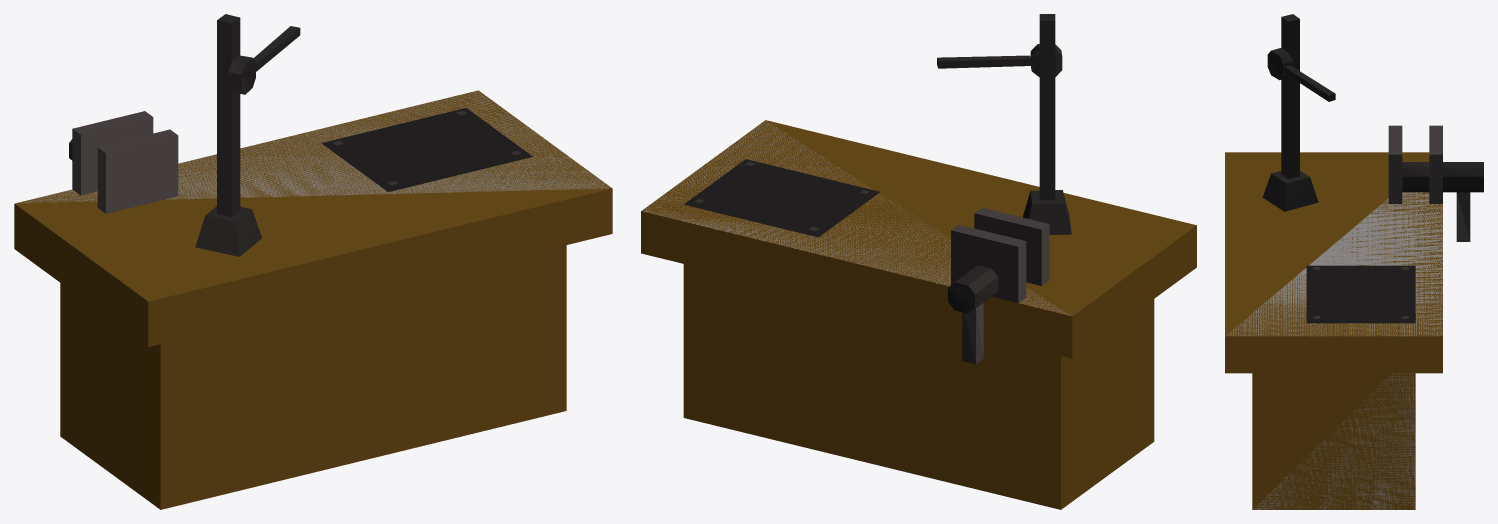
File: fletch.obj
3 renders of one model, left to right at view 1: azimuth 30°, elevation 25°; view 2: azimuth 150°, elevation 25°; view 3: azimuth 270°, elevation 25°, orthographic. The views are drawn at different scales.
Visible parts, largest first — view 1: Object_Workbench_2026-09-24_20-22-01; view 2: Object_Workbench_2026-09-24_20-22-01; view 3: Object_Workbench_2026-09-24_20-22-01.
Part boxes in pixels (box(x1,y1,x2,y2)): Object_Workbench_2026-09-24_20-22-01: box(14, 14, 612, 509); Object_Workbench_2026-09-24_20-22-01: box(641, 14, 1196, 509); Object_Workbench_2026-09-24_20-22-01: box(1225, 14, 1483, 509).
Bounding box in the file's own units: 256 × 238 × 152.
